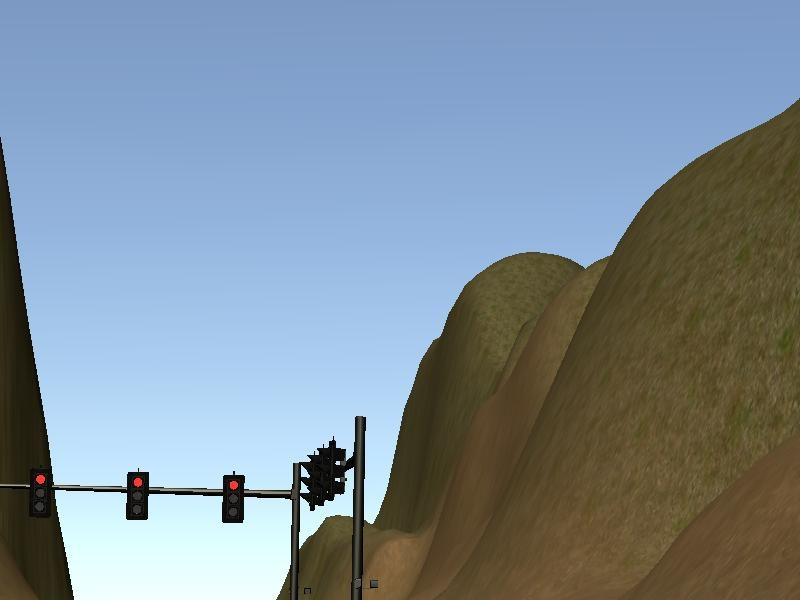RED: (30, 469, 52, 519), (125, 471, 147, 521), (221, 473, 243, 523)
